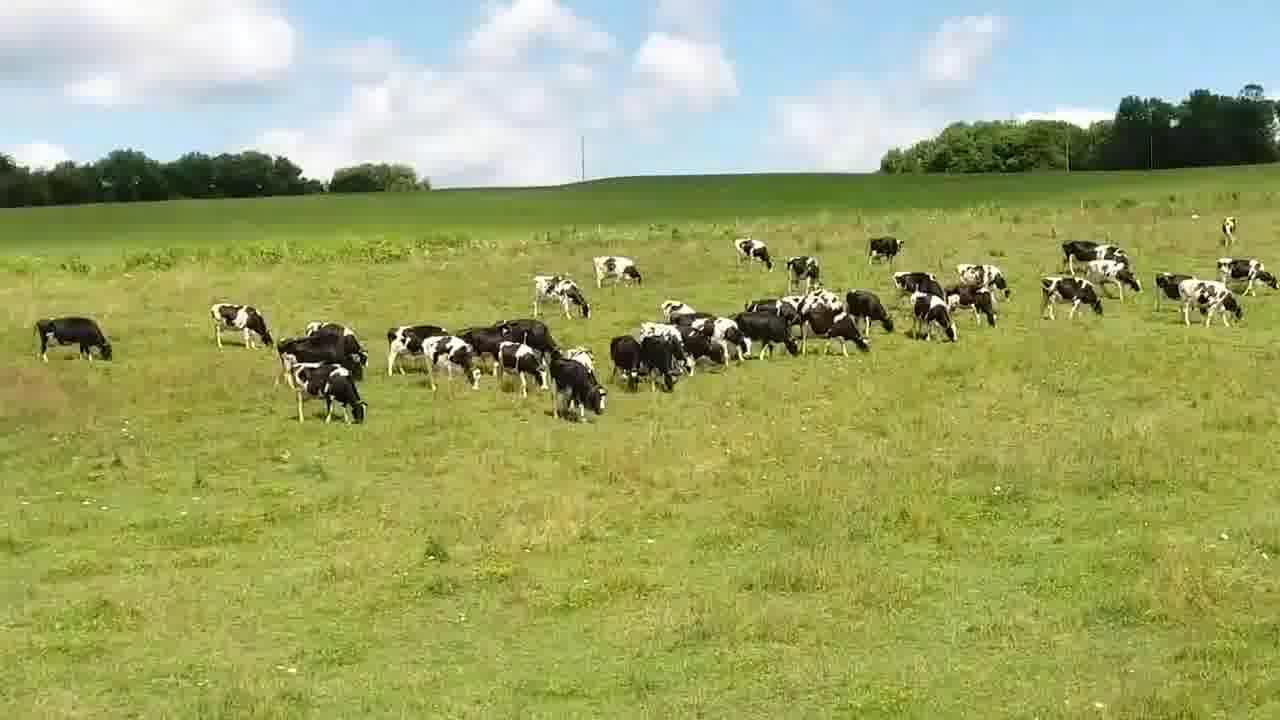cow: (286, 362, 370, 428), (31, 310, 113, 364), (420, 333, 491, 392), (383, 321, 457, 376), (1036, 273, 1109, 325), (548, 359, 605, 425), (1178, 275, 1247, 329), (1067, 260, 1147, 306), (277, 336, 362, 379), (207, 300, 277, 352), (733, 304, 795, 361), (793, 311, 871, 356), (639, 318, 697, 374), (531, 272, 593, 323), (905, 292, 963, 344), (306, 317, 371, 363), (496, 339, 546, 398), (946, 282, 1004, 332), (1215, 254, 1280, 298), (846, 287, 897, 336), (701, 318, 753, 364), (497, 316, 560, 353), (644, 338, 680, 400), (959, 261, 1013, 301), (892, 267, 951, 302), (593, 255, 645, 294), (1061, 237, 1127, 267), (608, 336, 642, 394), (732, 235, 778, 275), (1150, 271, 1195, 306), (787, 255, 830, 291), (862, 232, 906, 265), (1219, 214, 1241, 247)
